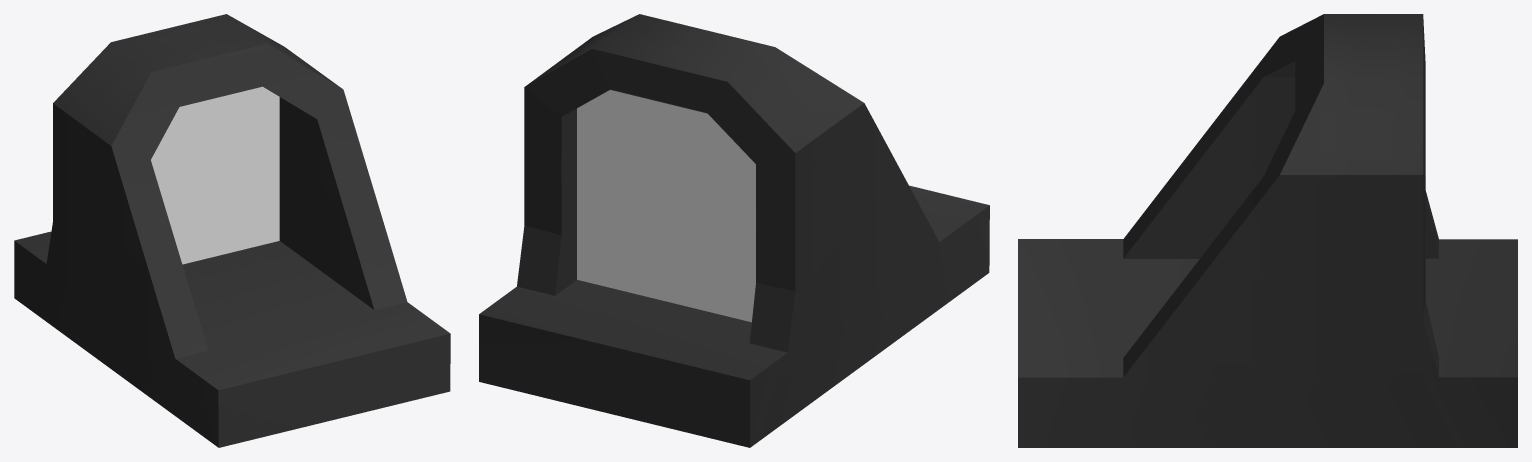
The model's file is ReflexB_mesh.fbx.
The picture shows the model from 3 angles, left to right: view 1: azimuth 30°, elevation 25°; view 2: azimuth 150°, elevation 25°; view 3: azimuth 270°, elevation 25°; orthographic projection. The views are drawn at different scales.
Parts seen in each view (by area): view 1: ReflexB_mesh; view 2: ReflexB_mesh; view 3: ReflexB_mesh.
Part boxes in pixels (<box>): ReflexB_mesh: <box>14,14,450,447</box>; ReflexB_mesh: <box>479,14,989,447</box>; ReflexB_mesh: <box>1018,14,1517,447</box>.
Size of the model in its own units: 3.33 by 3.7 by 5.08.
